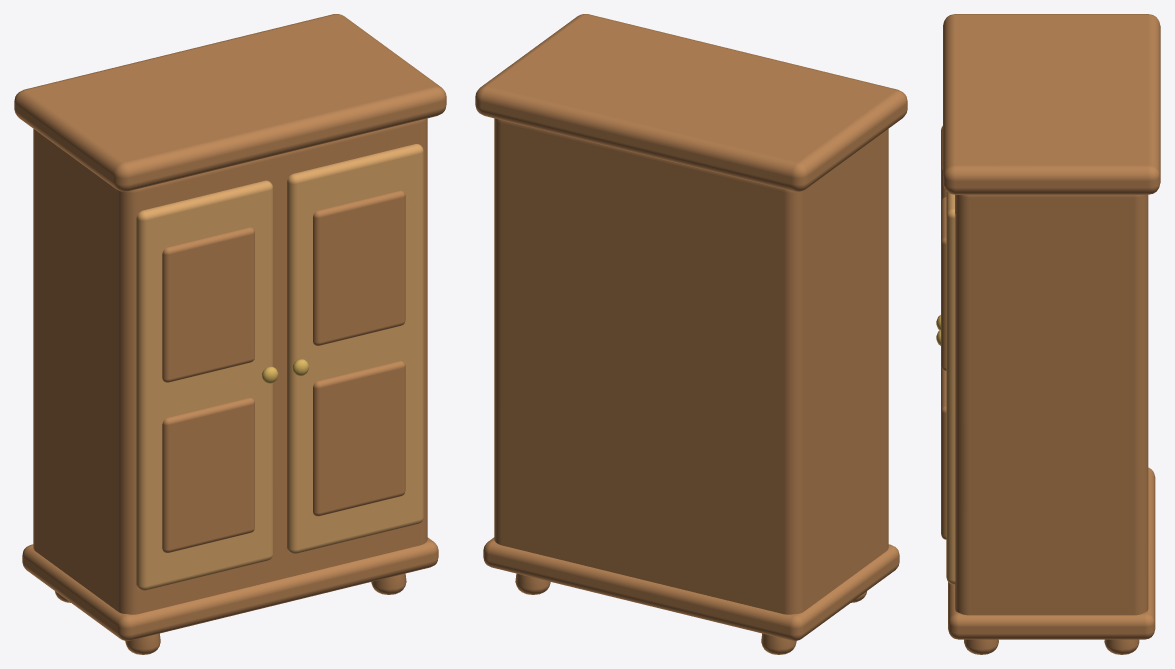
Rendered from antique_wardrobe.glb.
3 views of the same model, side by side, from view 1: azimuth 30°, elevation 25°; view 2: azimuth 150°, elevation 25°; view 3: azimuth 270°, elevation 25° (orthographic).
Parts seen in each view (by area): view 1: antique_wardrobe_mesh; view 2: antique_wardrobe_mesh; view 3: antique_wardrobe_mesh.
Part boxes in pixels (x1=…): antique_wardrobe_mesh: x1=14, y1=14, x2=446, y2=654; antique_wardrobe_mesh: x1=475, y1=14, x2=907, y2=654; antique_wardrobe_mesh: x1=936, y1=14, x2=1160, y2=654.
Size of the model in its own units: 1.08 by 1.57 by 0.6383.
